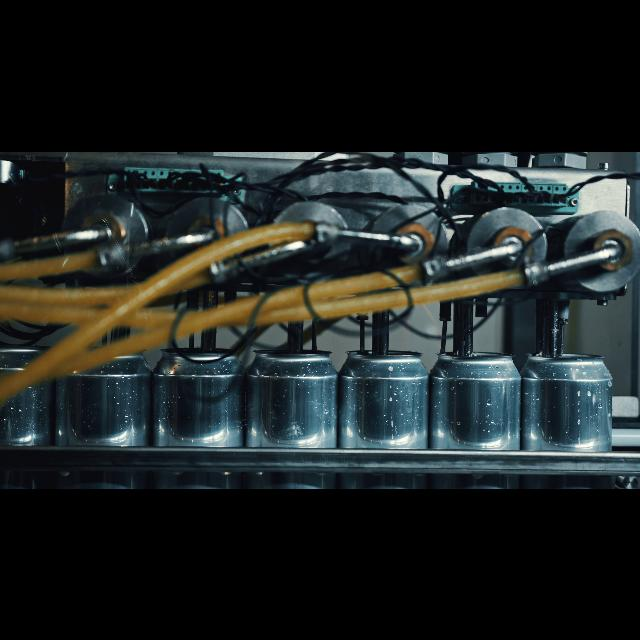empty: (58, 339, 152, 488), (341, 339, 427, 488), (527, 339, 613, 488), (161, 336, 243, 488), (254, 329, 332, 488), (435, 342, 519, 488), (0, 338, 48, 488)
